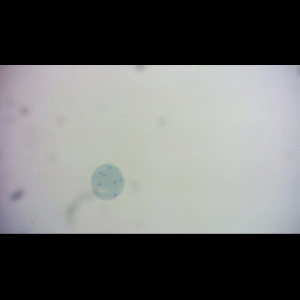punctate reticulocyte: (90, 162, 125, 201)
